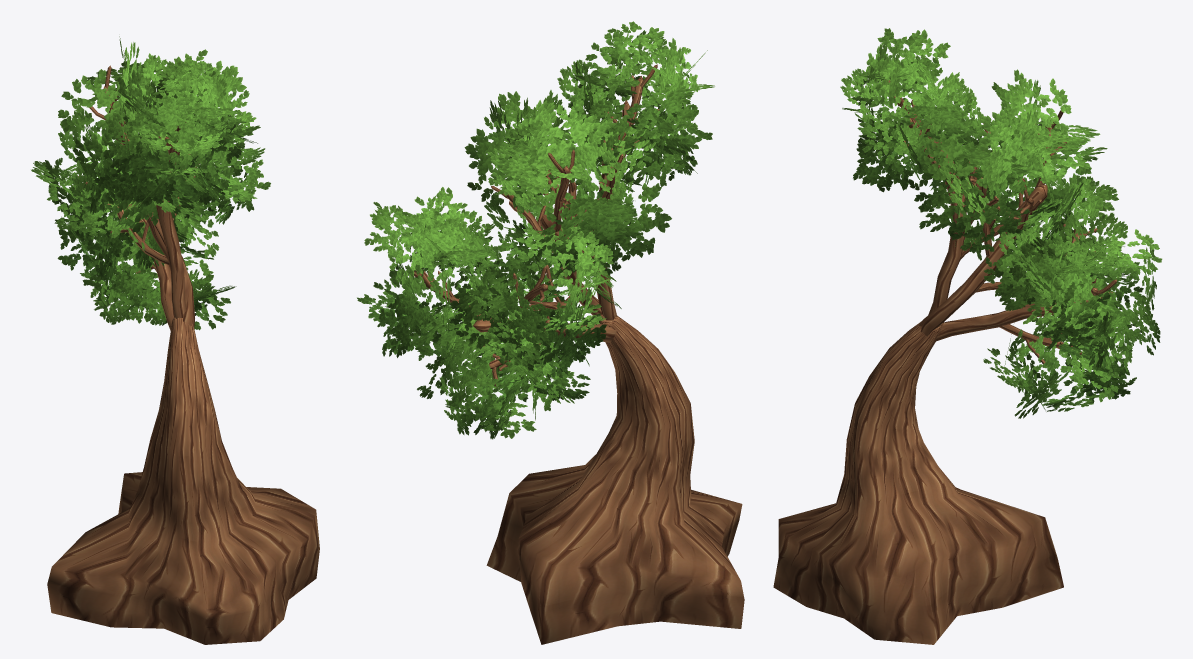
Rendered from ct_heart_0.gltf.
The picture shows the model from 3 angles, left to right: view 1: azimuth 30°, elevation 25°; view 2: azimuth 150°, elevation 25°; view 3: azimuth 270°, elevation 25°; orthographic projection. The views are drawn at different scales.
Visible parts, largest first — view 1: ct_heart_0_trunk_LOD0, ct_heart_0_leaves_LOD0; view 2: ct_heart_0_leaves_LOD0, ct_heart_0_trunk_LOD0; view 3: ct_heart_0_leaves_LOD0, ct_heart_0_trunk_LOD0.
Part boxes in pixels (x1,y1,x2,y2): ct_heart_0_trunk_LOD0: (47, 65, 319, 644); ct_heart_0_leaves_LOD0: (31, 36, 270, 330); ct_heart_0_leaves_LOD0: (357, 21, 714, 439); ct_heart_0_trunk_LOD0: (414, 64, 744, 644); ct_heart_0_leaves_LOD0: (840, 28, 1162, 418); ct_heart_0_trunk_LOD0: (773, 80, 1116, 644).
Size of what is drawn, in the model's own units: 4.99 by 8.94 by 5.99.
Materials: 2 (2 with a texture image).
